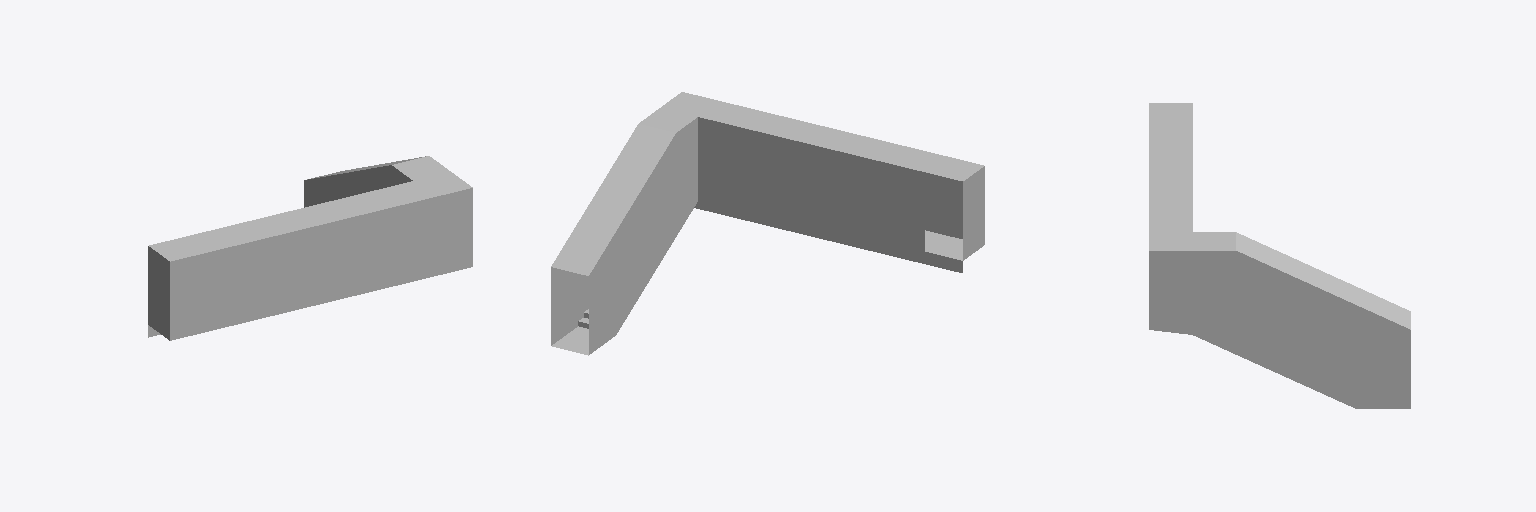
File: floor_default.obj
The picture shows the model from 3 angles: view 1: azimuth 30°, elevation 25°; view 2: azimuth 150°, elevation 25°; view 3: azimuth 270°, elevation 25°; orthographic projection.
Bounding box in the file's own units: 800 × 400 × 600.